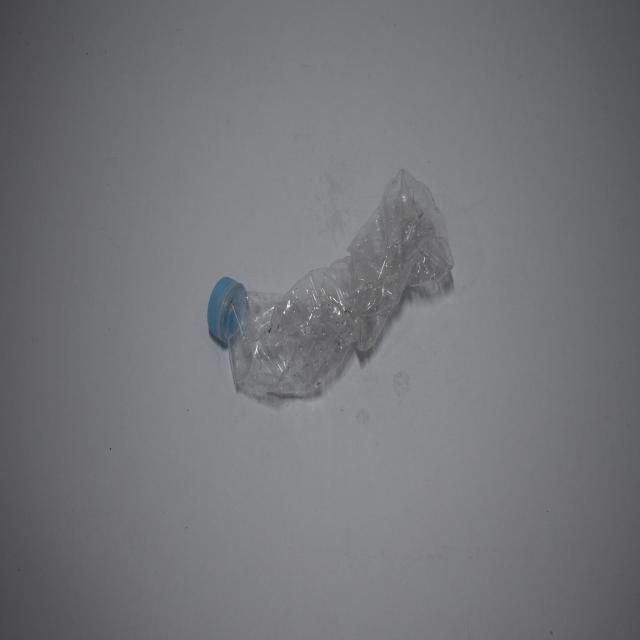bottle: (200, 175, 459, 412)
